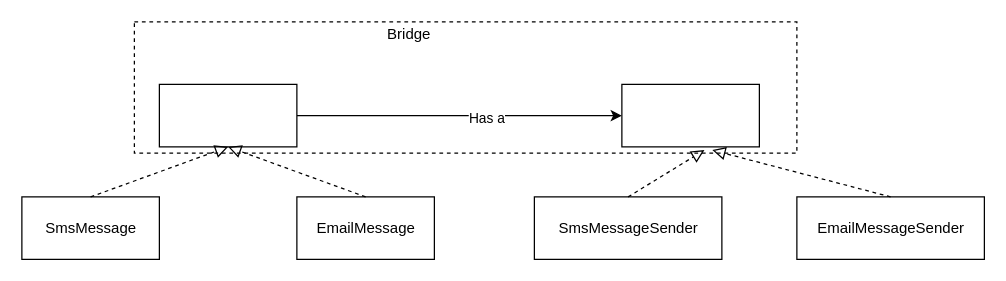
The diagram is 1006 pixels wide and 281 high, and some of its shapes have lost their labels. The shapes that lost their labels are listed below. From the top down, each one's box as (x1, y1, x2, y2) in pixels, then its label:
(158, 83, 297, 147): Message
(621, 83, 759, 147): MessageSender
